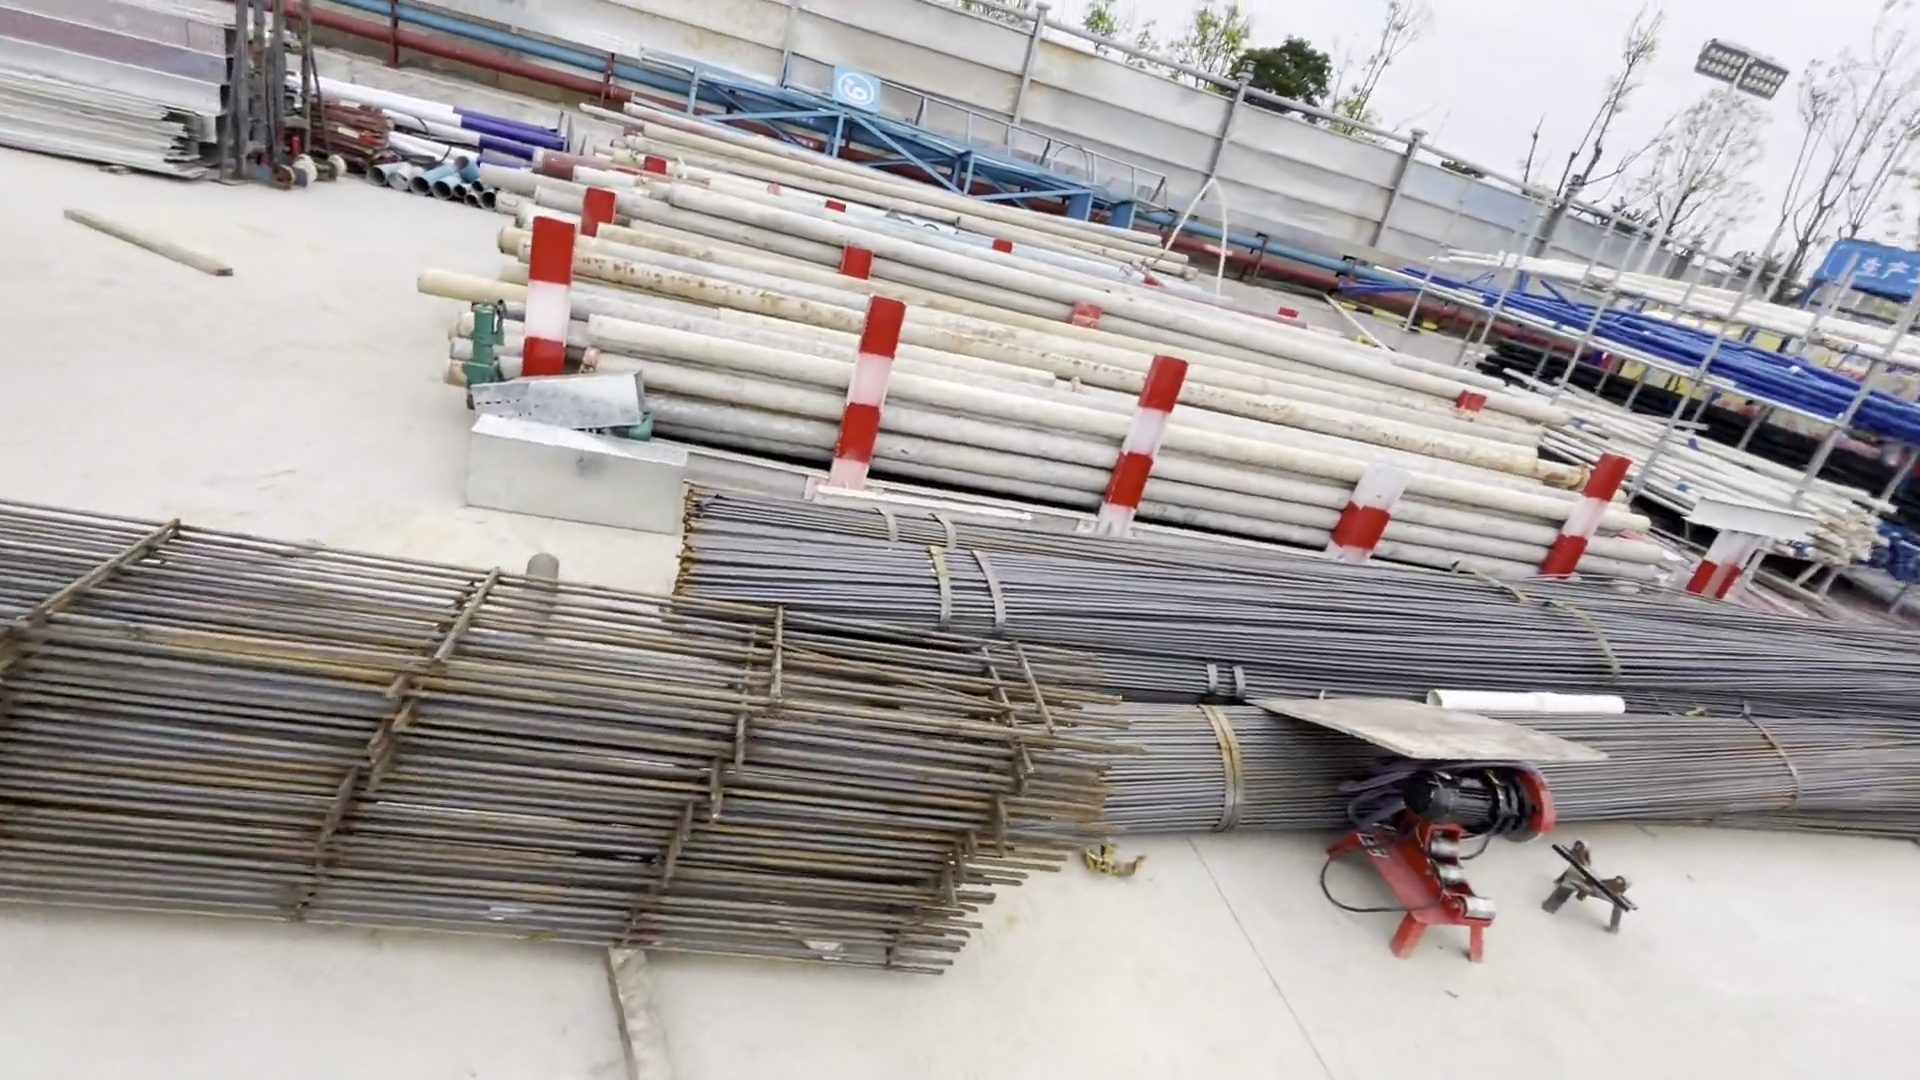cutter: (1320, 728, 1605, 967)
rebar: (3, 500, 1106, 994), (674, 500, 1920, 847)
